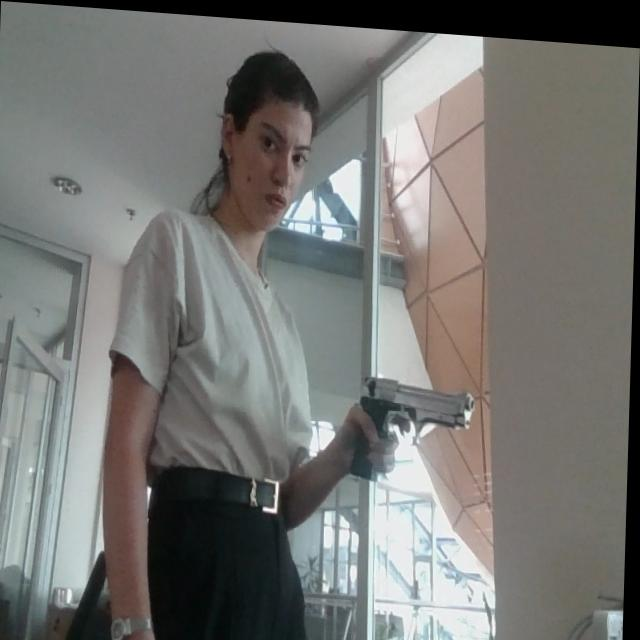handgun: (318, 318, 489, 556)
